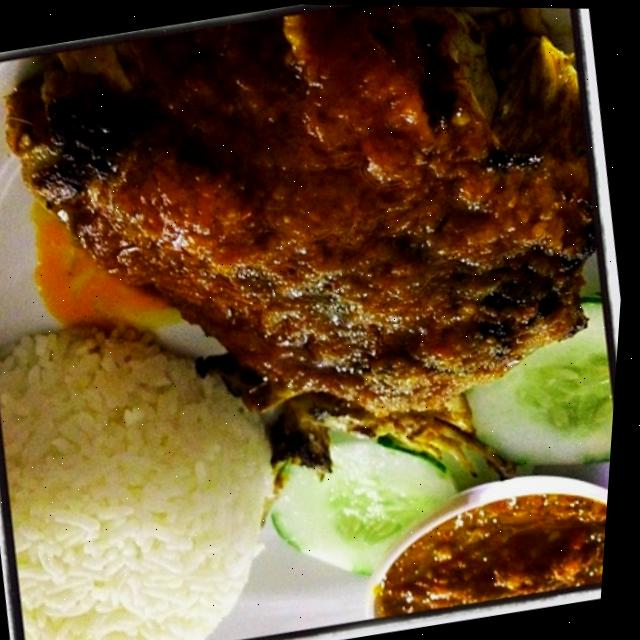鸡肉料理 含炸鸡: (0, 0, 636, 614)
